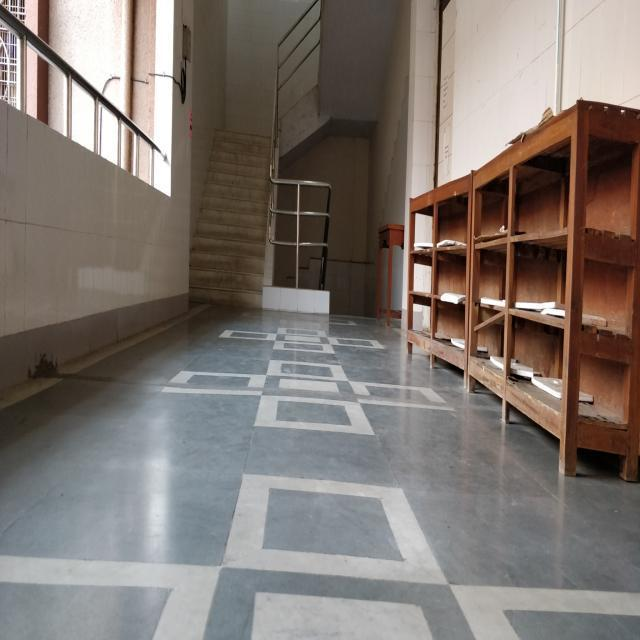stairs: (188, 127, 275, 309)
